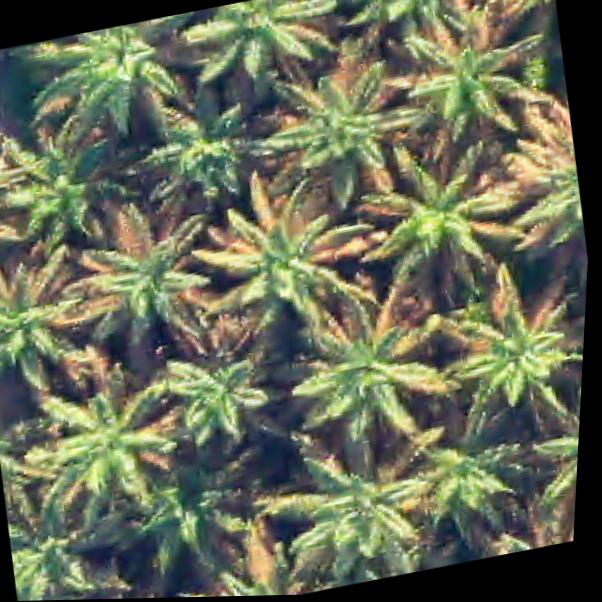oilpalm: (268, 273, 477, 480), (242, 406, 441, 596), (5, 336, 185, 540), (190, 169, 382, 344), (253, 38, 430, 205), (423, 262, 588, 433), (350, 135, 524, 291), (16, 9, 214, 141), (128, 76, 282, 230), (384, 4, 553, 143), (72, 199, 231, 346), (149, 314, 300, 468), (385, 398, 537, 542), (0, 109, 139, 250), (175, 0, 345, 107), (0, 232, 95, 402), (0, 466, 118, 601), (520, 385, 581, 518), (342, 0, 483, 52)
